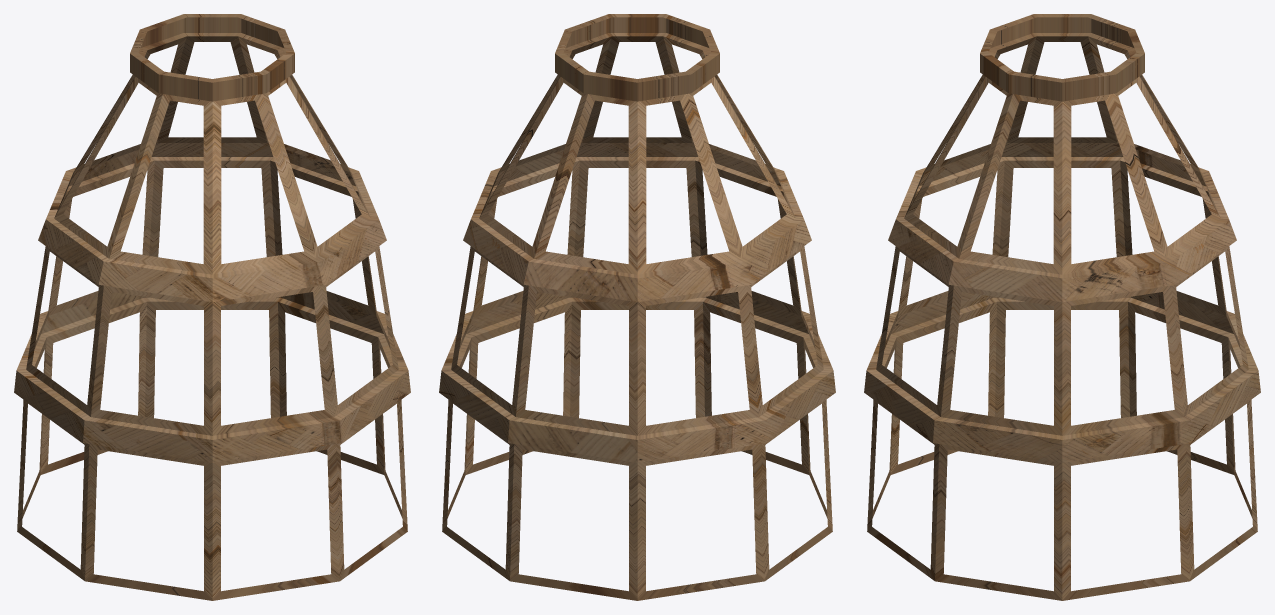
The model's file is SM_FishNet.fbx.
The picture shows the model from 3 angles, left to right: view 1: azimuth 30°, elevation 25°; view 2: azimuth 150°, elevation 25°; view 3: azimuth 270°, elevation 25°; orthographic projection.
Visible parts, largest first — view 1: Cylinder034; view 2: Cylinder034; view 3: Cylinder034.
Boxes of the visible parts, left/top/right/bottom form: Cylinder034: left=14, top=14, right=410, bottom=600; Cylinder034: left=439, top=14, right=835, bottom=600; Cylinder034: left=864, top=14, right=1260, bottom=600.
Size of the model in its own units: 39.28 by 52.09 by 39.88.
Materials: 1 (1 with a texture image).
